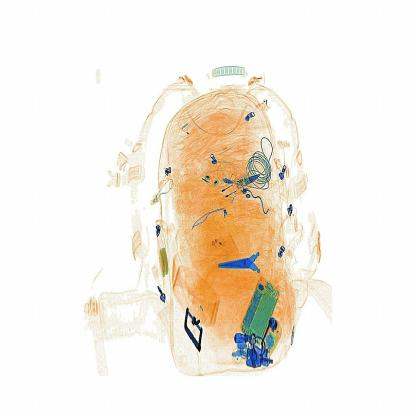gun: (216, 232, 279, 294)
